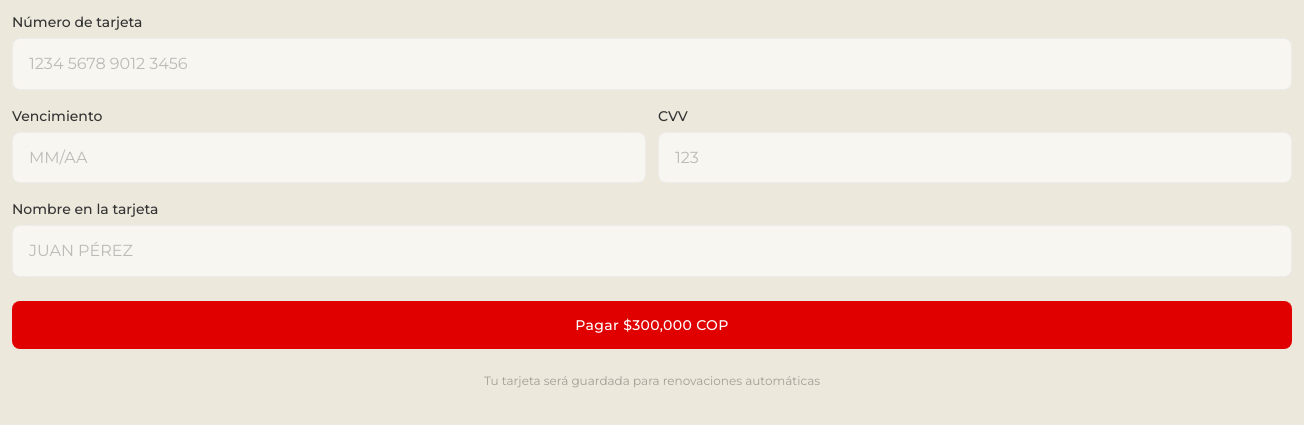
Test: CardPaymentForm › shows validation error for invalid CVV
The image size is (1304, 425).
Type "4111111111111111" into the field labelled "Número de tarjeta" at {"x": 652, "y": 64}, box [12,38,1292,90]
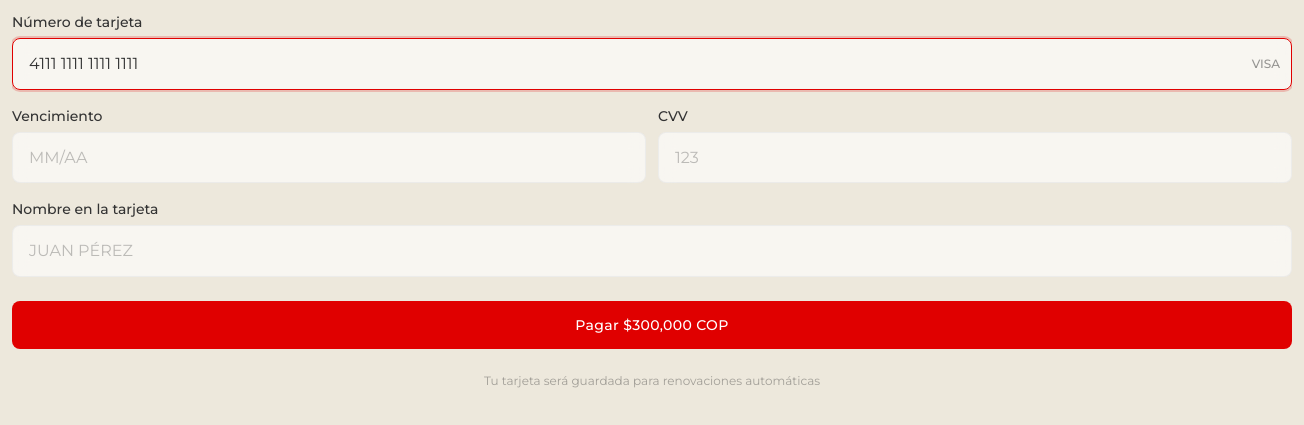
Type "1230" into the field labelled "Vencimiento" at {"x": 329, "y": 157}, box [12,132,646,183]
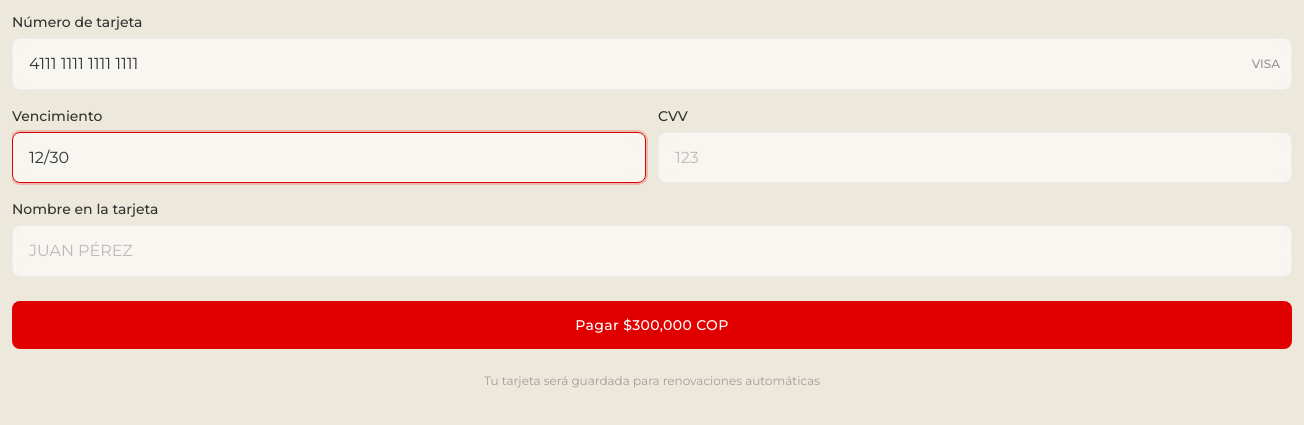
Type "12" into the field labelled "CVV" at {"x": 975, "y": 157}, box [658,132,1292,183]
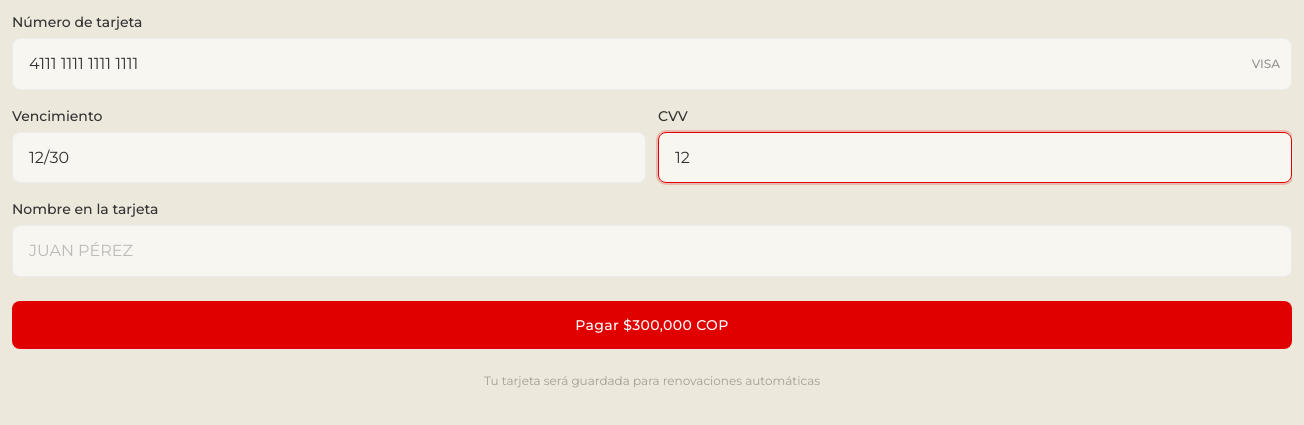
Type "JUAN PEREZ" into the field labelled "Nombre en la tarjeta" at {"x": 652, "y": 251}, box [12,225,1292,277]
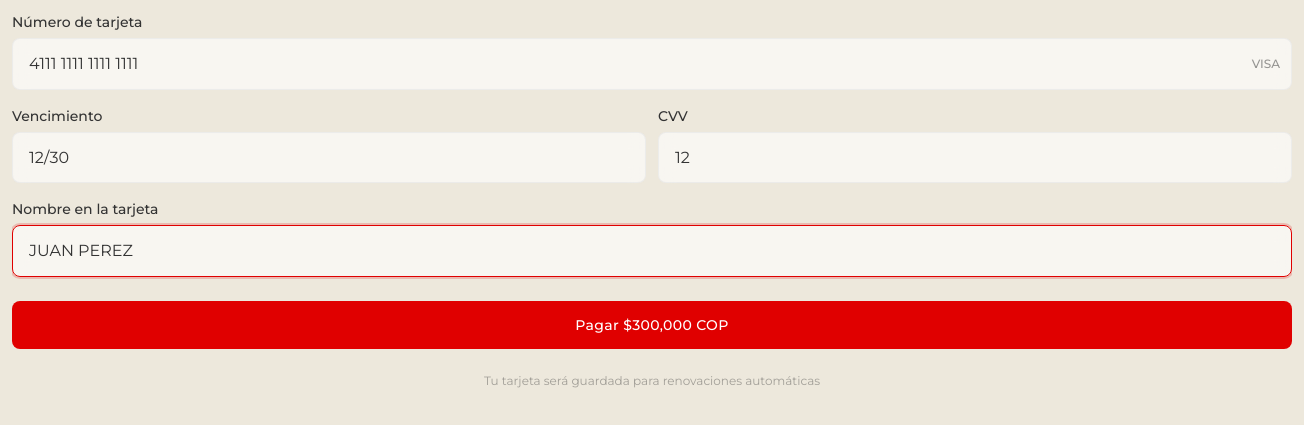
Click the button "Pagar $300,000 COP" at {"x": 652, "y": 325}, box [12,301,1292,349]
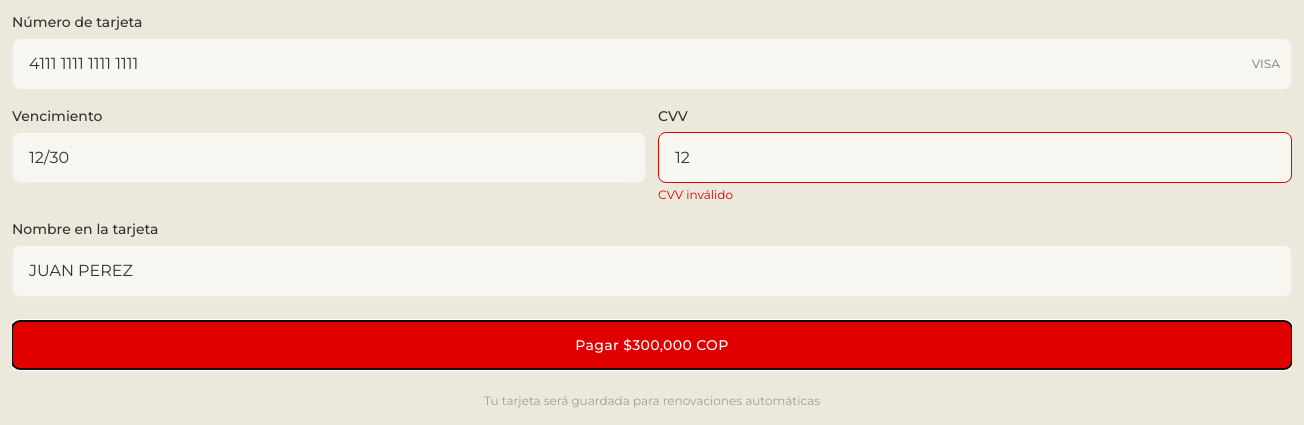
Check: the text "CVV inválido" is shown, box [658,187,733,202]
